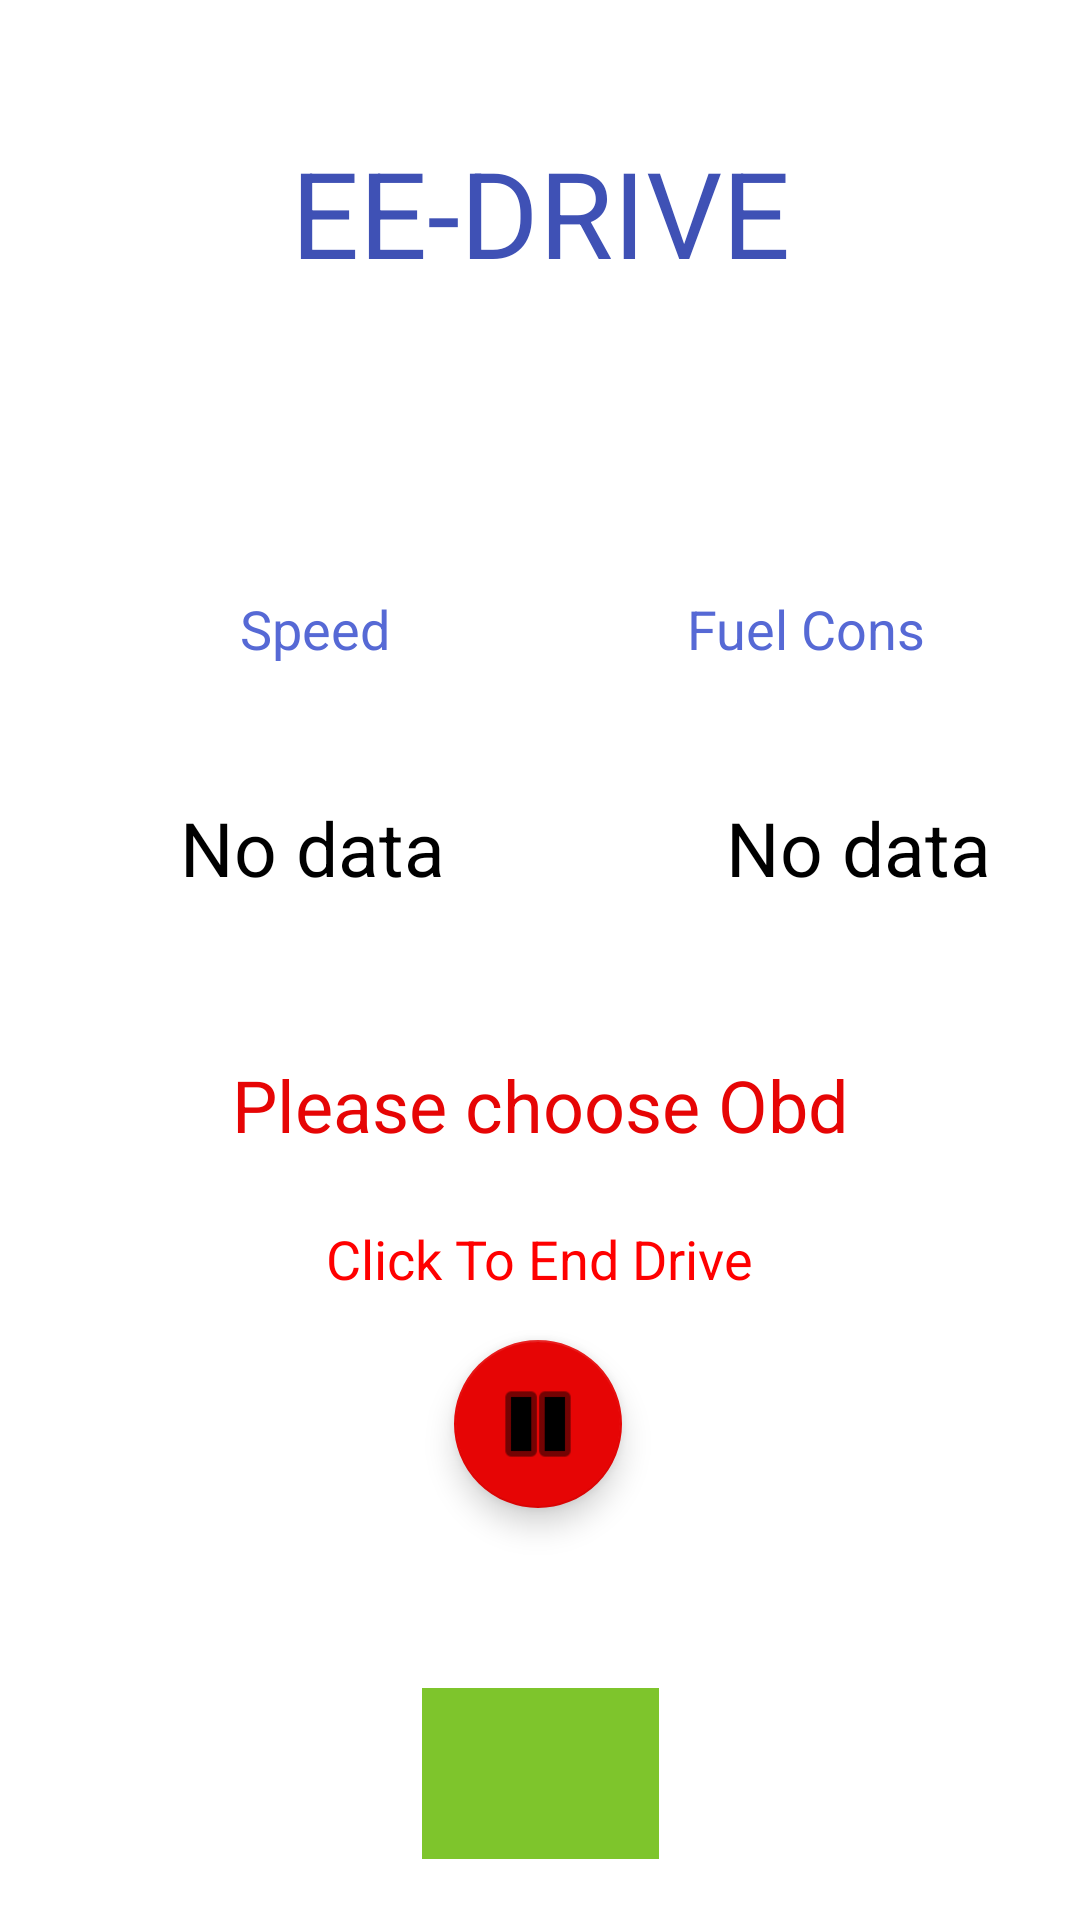

Where icons sit on this 1080 × 1920 app screen, as (x1, y1, x2, y2):
pause: (454, 1340, 622, 1508)
